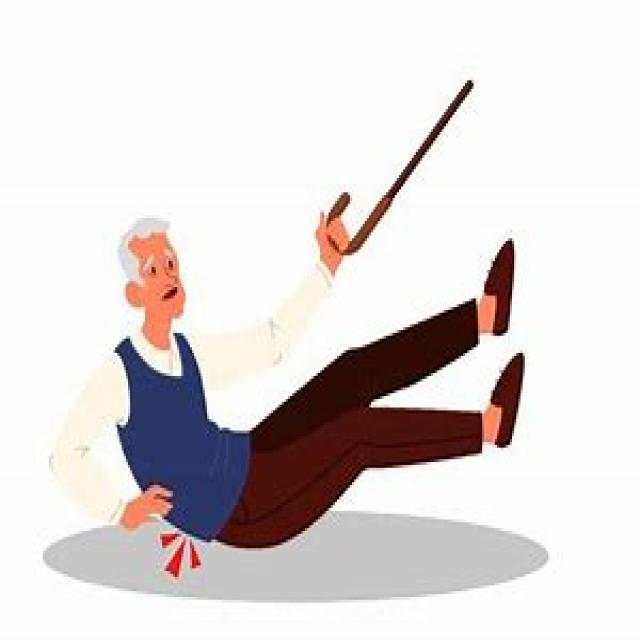lie: (94, 283, 532, 537)
